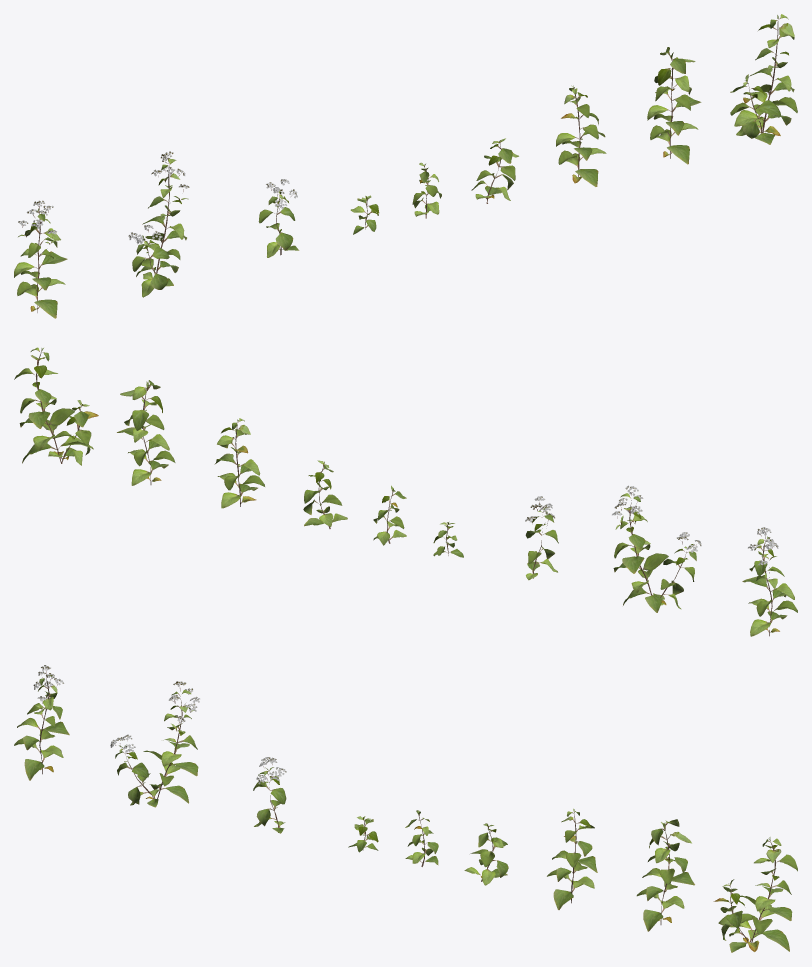
File: shrub_01.glb
The picture shows the model from 3 angles, top to bottom: view 1: azimuth 30°, elevation 25°; view 2: azimuth 150°, elevation 25°; view 3: azimuth 330°, elevation 25°; orthographic projection. The views are drawn at different scales.
Visible parts, largest first — view 1: shrub_01_a; view 2: shrub_01_a; view 3: shrub_01_a.
Boxes of the visible parts, x1,y1,x2,y2 form: shrub_01_a: (14,14,797,318); shrub_01_a: (14,347,797,636); shrub_01_a: (14,665,797,952).
Size of the model in its own units: 2.59 by 0.3956 by 0.2179.
Materials: 1 (1 with a texture image).
